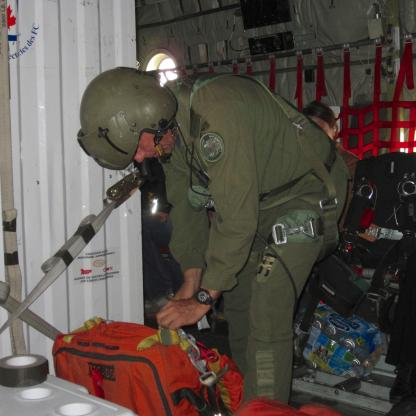Helmet: (77, 69, 183, 175)
